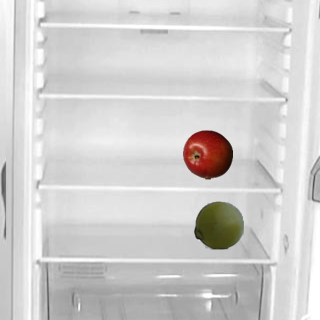Apple Braeburn: (182, 129, 232, 179)
Grape White 4: (193, 199, 243, 249)
